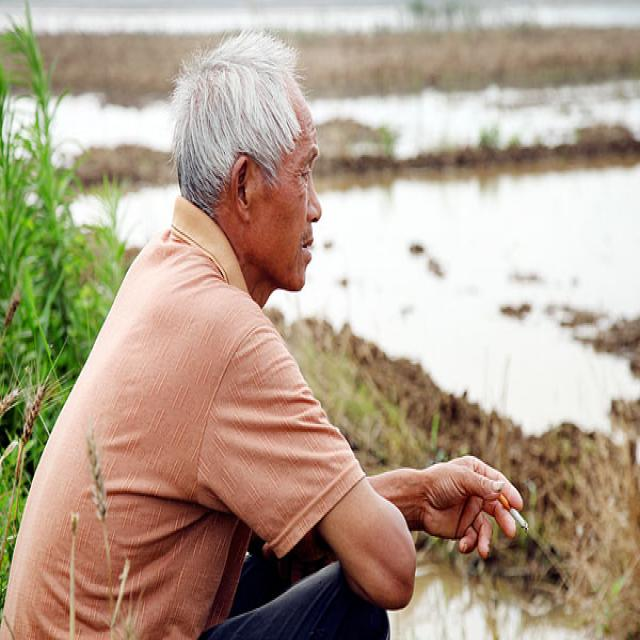smoking: (500, 483, 530, 533)
